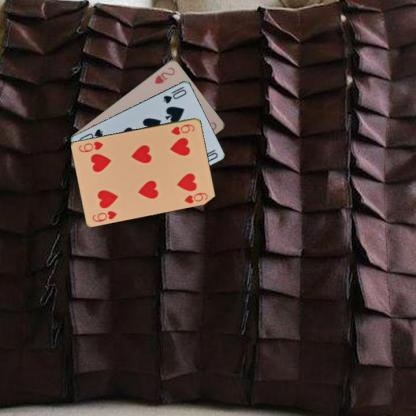10s: (160, 84, 188, 104)
2h: (152, 64, 176, 85)
6h: (90, 208, 119, 223), (169, 121, 196, 136)
